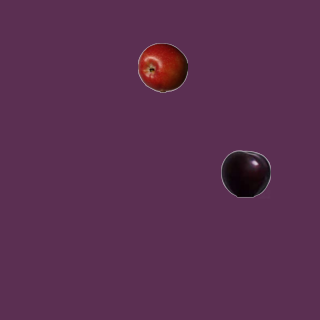Apple Braeburn: (137, 42, 187, 92)
Cherry Wax Black: (220, 148, 270, 198)
